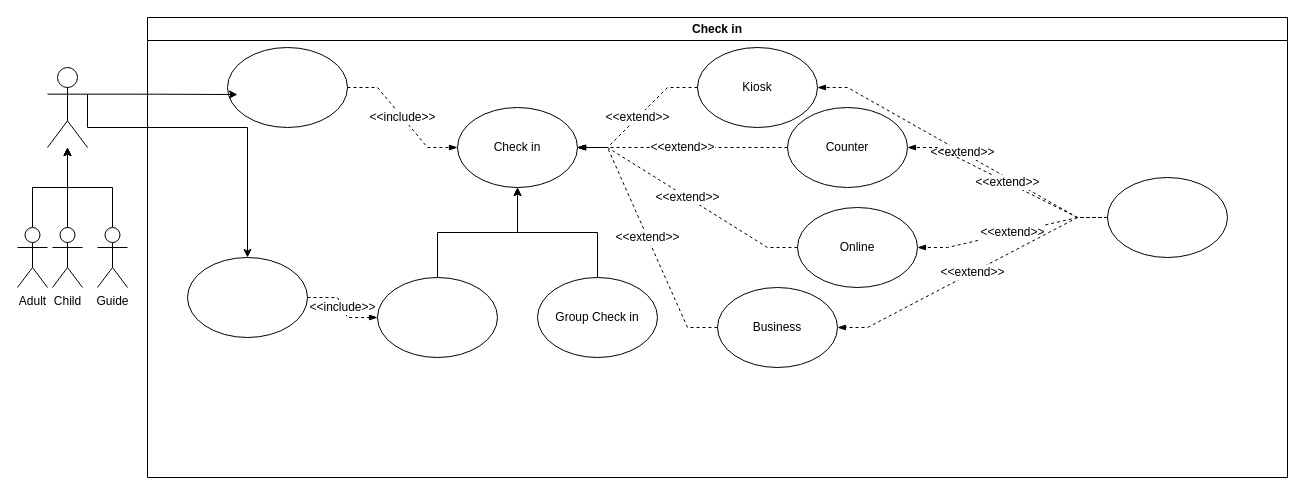
The diagram is 1305 pixels wide and 495 high, and some of its shapes have lost their labels. Here are the shapes that lost their labels. From the top down, the box of each, then its label:
(46, 66, 88, 148): Passenger
(226, 46, 348, 128): Group Passenger
(1106, 176, 1228, 258): Delivery Luggage
(186, 256, 308, 338): Individual Passenger
(376, 276, 498, 358): Individual Check in
